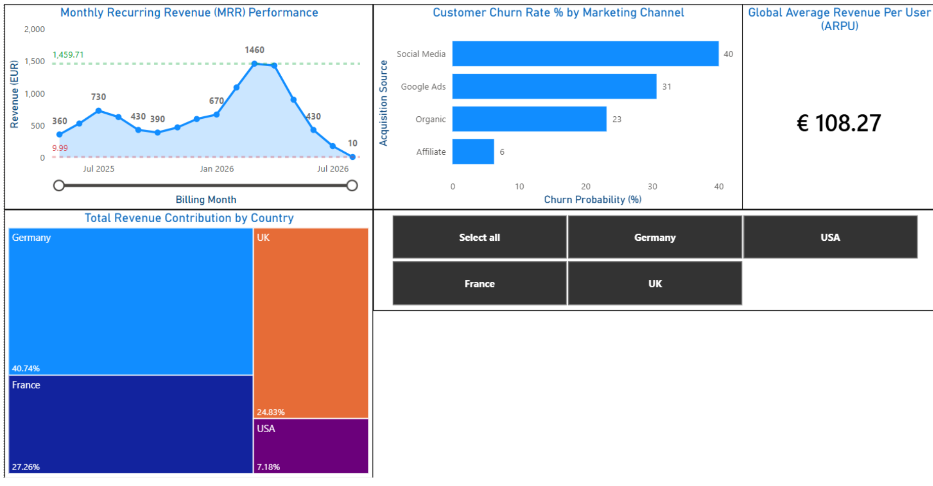

What the dashboard file says about the page in this screenshot:
{"tool":"powerbi","page":{"name":"Page 1","canvas":[1280,720],"ordinal":0},"visuals":[{"type":"lineChart","title":"Monthly Recurring Revenue (MRR) Performance","fields":{"Y":["Sum(public vw_mrr_report.total_mrr)"],"Category":["public vw_mrr_report.revenue_month"]},"box":[0,0,506.7,282.1],"z":0},{"type":"barChart","title":"Customer Churn Rate % by Marketing Channel","fields":{"Y":["Avg(public vw_churn_report.churn_rate_pct)"],"Category":["public vw_churn_report.marketing_channel"]},"box":[506.7,0,507.7,282.1],"z":1000},{"type":"treemap","title":"Total Revenue Contribution by Country","fields":{"Group":["public vw_country_performance.country_clean"],"Values":["Sum(public vw_country_performance.total_revenue)"]},"box":[0,282.1,506.7,368.6],"z":2000},{"type":"cardVisual","title":"Global Average Revenue Per User (ARPU)","fields":{"Data":["Avg(public vw_country_performance.arpu)"]},"box":[1013.5,0,266.5,282.1],"z":3000},{"type":"slicer","fields":{"Values":["public vw_country_performance.country_clean"]},"box":[506.9,282.1,772.8,138.8],"z":4000}]}

Visuals, with their boxes on the page's 1280x720 design canvas (x1, y1, x2, y2). These are canvas units, not pixel positions in the 933x486 screenshot, which may show the page scaled, cropped or inside an application window:
"Monthly Recurring Revenue (MRR) Performance" lineChart: 0:0:507:282
"Customer Churn Rate % by Marketing Channel" barChart: 507:0:1014:282
"Total Revenue Contribution by Country" treemap: 0:282:507:651
"Global Average Revenue Per User (ARPU)" cardVisual: 1014:0:1280:282
slicer - public vw_country_performance.country_clean: 507:282:1280:421
